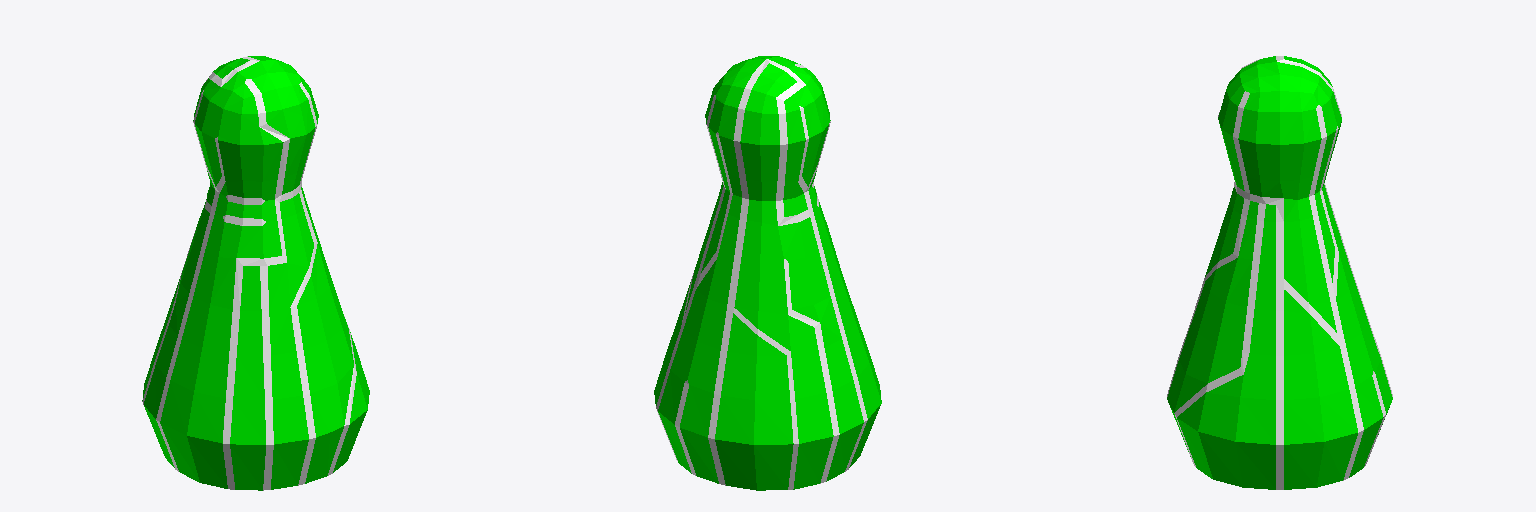
File: chipgreen.obj
3 views of the same model, side by side, from view 1: azimuth 30°, elevation 25°; view 2: azimuth 150°, elevation 25°; view 3: azimuth 270°, elevation 25° (orthographic).
Parts seen in each view (by area): view 1: Куб.012_Куб.031; view 2: Куб.012_Куб.031; view 3: Куб.012_Куб.031.
Part boxes in pixels (bbox=[...]): Куб.012_Куб.031: bbox=[142, 56, 369, 490]; Куб.012_Куб.031: bbox=[654, 56, 881, 490]; Куб.012_Куб.031: bbox=[1167, 56, 1392, 489].
Size of the model in its own units: 0.3173 by 0.6058 by 0.3173.